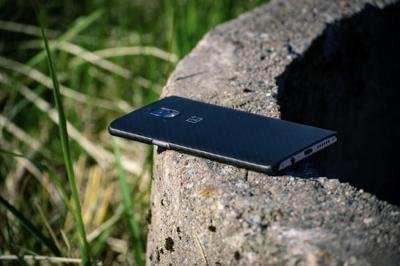cell-phone: (105, 92, 343, 182)
